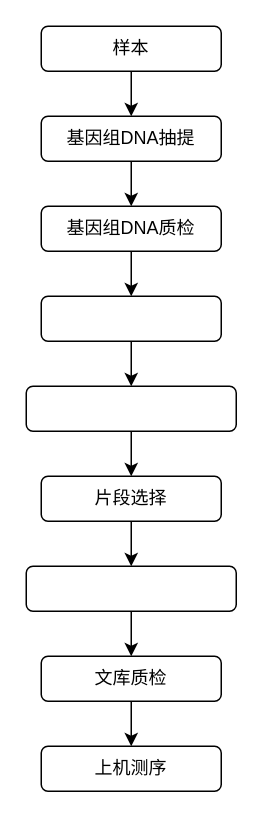
The diagram is 263 pixels wide and 818 high, and some of its shapes have lost their labels. Each missing label, with the box of its shape:
PCR扩增和PCR产物纯化: (25, 565, 236, 611)
基因组DNA片段化: (40, 295, 221, 341)
末端修复，加A，加接头: (25, 385, 236, 431)
